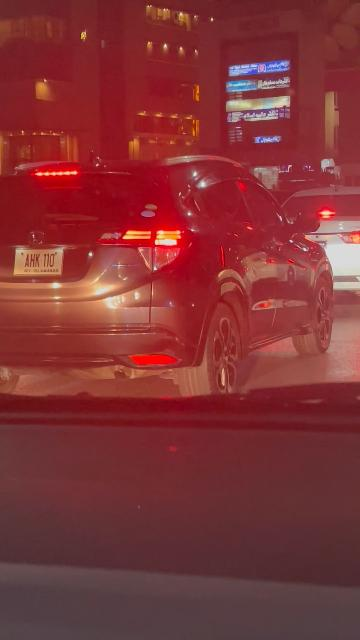plate: (12, 247, 64, 276)
